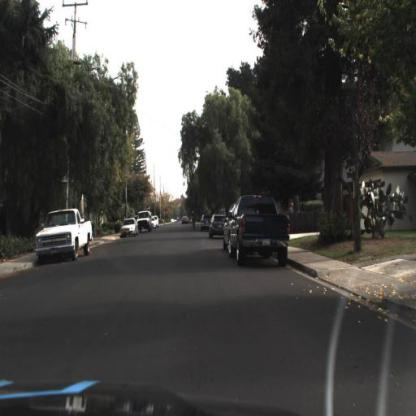biker: (190, 203, 198, 233)
car: (228, 192, 294, 271), (35, 203, 95, 268), (207, 211, 228, 240), (137, 208, 156, 236), (119, 217, 140, 239), (199, 211, 213, 234), (151, 212, 160, 234)
